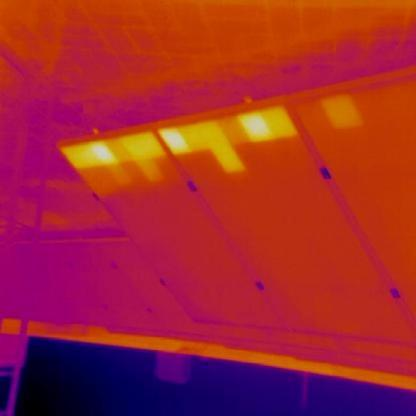anomaly: (155, 113, 298, 169), (60, 134, 158, 174)
